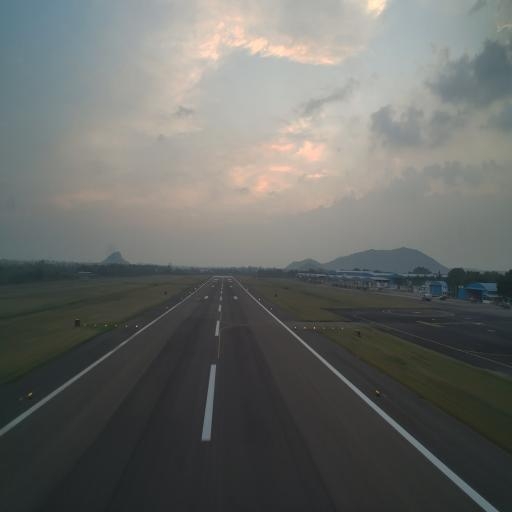on: (26, 391, 33, 399), (374, 387, 380, 396), (84, 322, 87, 328), (312, 326, 316, 330), (340, 326, 344, 330), (94, 323, 97, 328), (105, 323, 108, 328), (125, 324, 128, 328), (136, 324, 138, 329), (294, 325, 296, 330), (304, 325, 306, 330), (115, 324, 117, 328), (323, 326, 325, 330), (332, 326, 334, 330)
